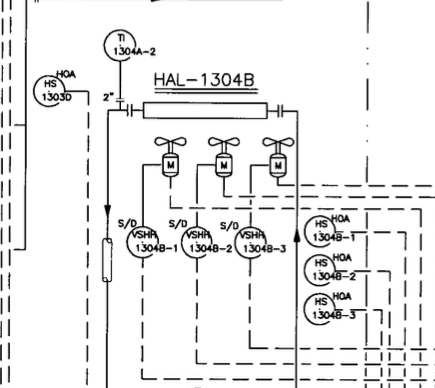Instrument-offset: (98, 28, 160, 66), (124, 224, 180, 262), (302, 253, 361, 289), (301, 292, 358, 329), (234, 225, 290, 261), (302, 215, 357, 251), (180, 225, 234, 261), (30, 73, 79, 109)
